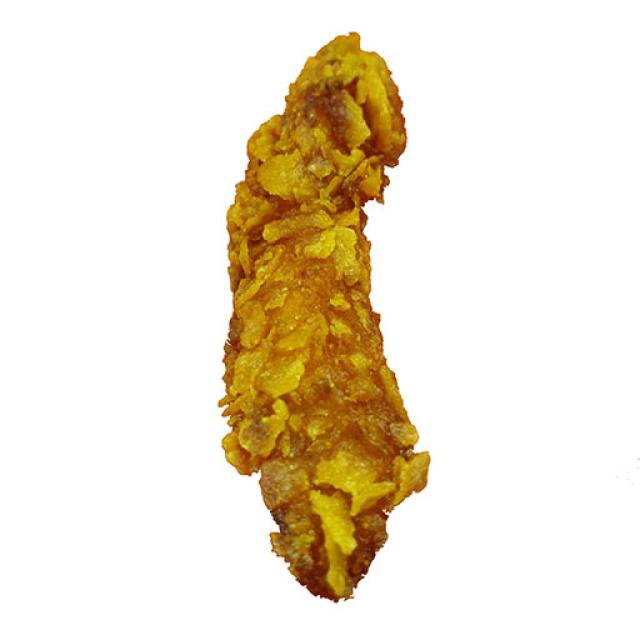Frango: (172, 37, 426, 608)
